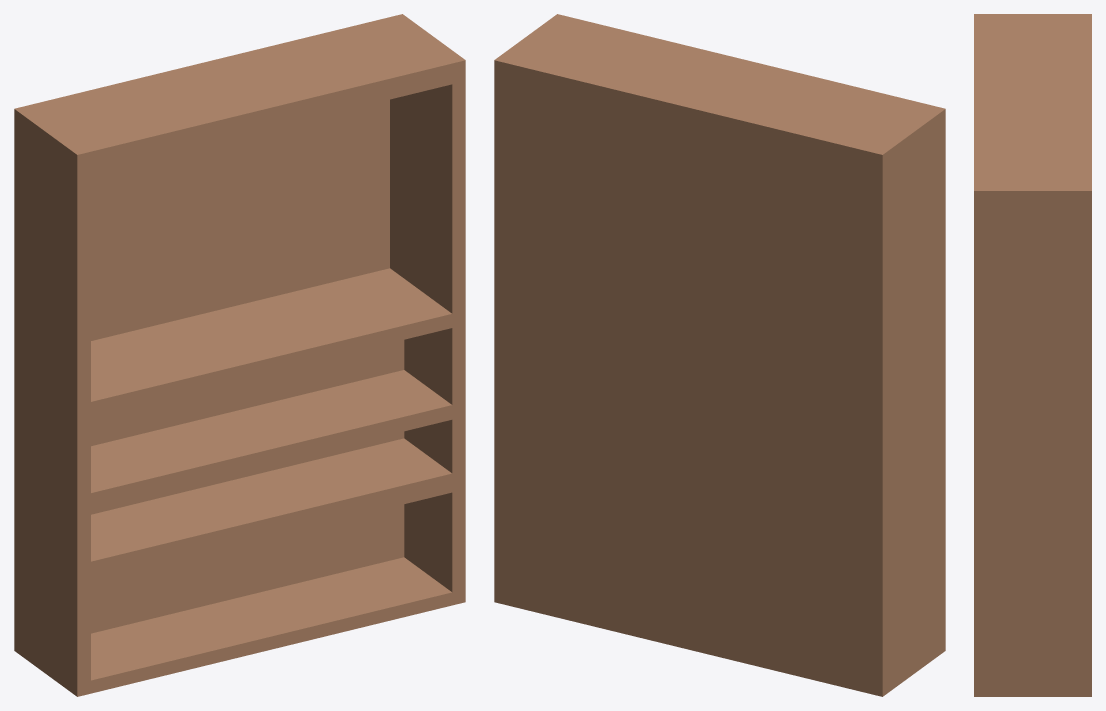
The model's file is Bookcase.fbx.
3 views of the same model, side by side, from view 1: azimuth 30°, elevation 25°; view 2: azimuth 150°, elevation 25°; view 3: azimuth 270°, elevation 25° (orthographic). The views are drawn at different scales.
Visible parts, largest first — view 1: pCube1; view 2: pCube1; view 3: pCube1.
Boxes of the visible parts, x1,y1,x2,y2 form: pCube1: [14, 14, 465, 696]; pCube1: [494, 14, 945, 696]; pCube1: [974, 14, 1091, 696].
Bounding box in the file's own units: 1.5 × 2 × 0.4224.
